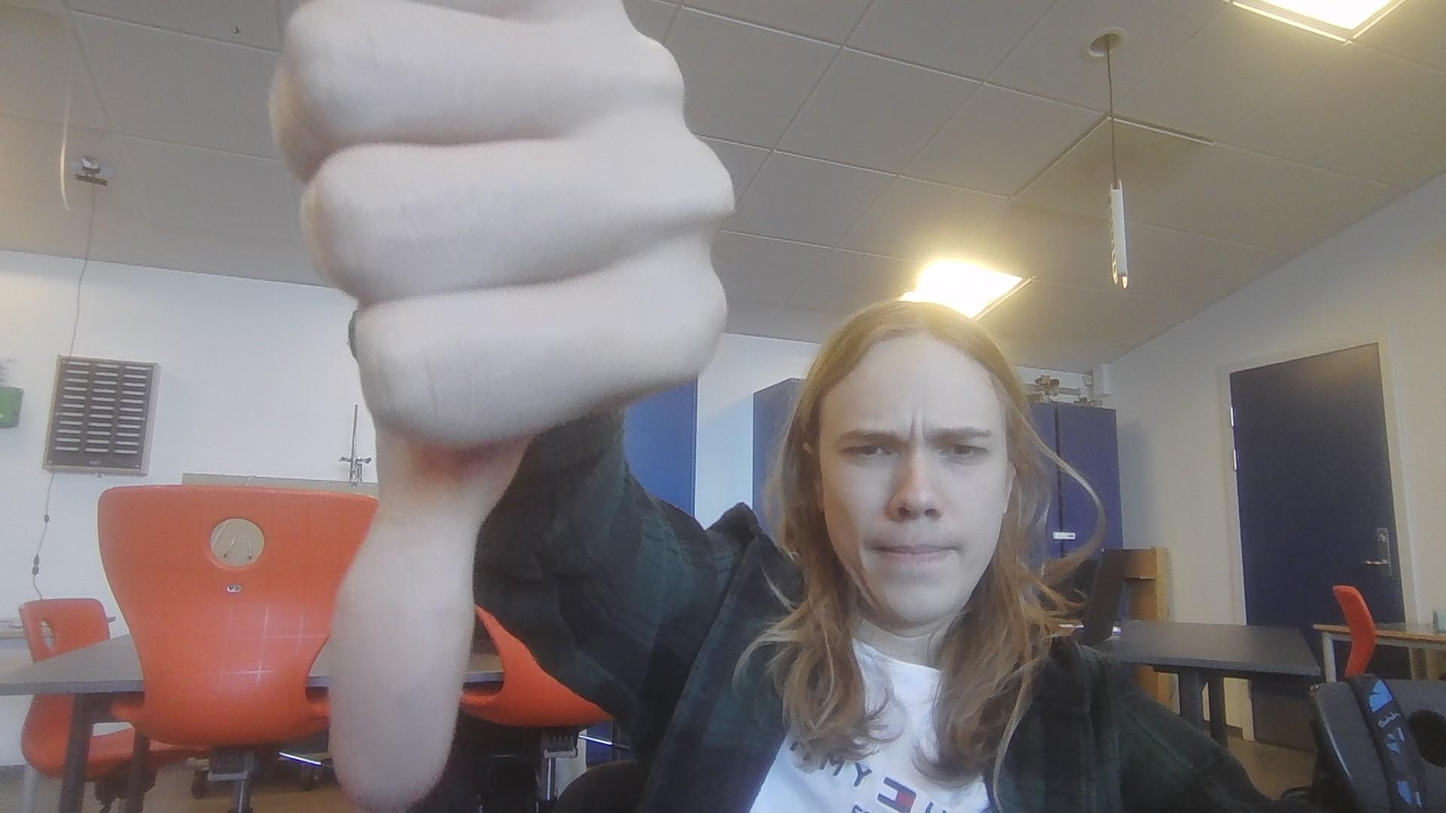thumbs down: (256, 1, 742, 795)
